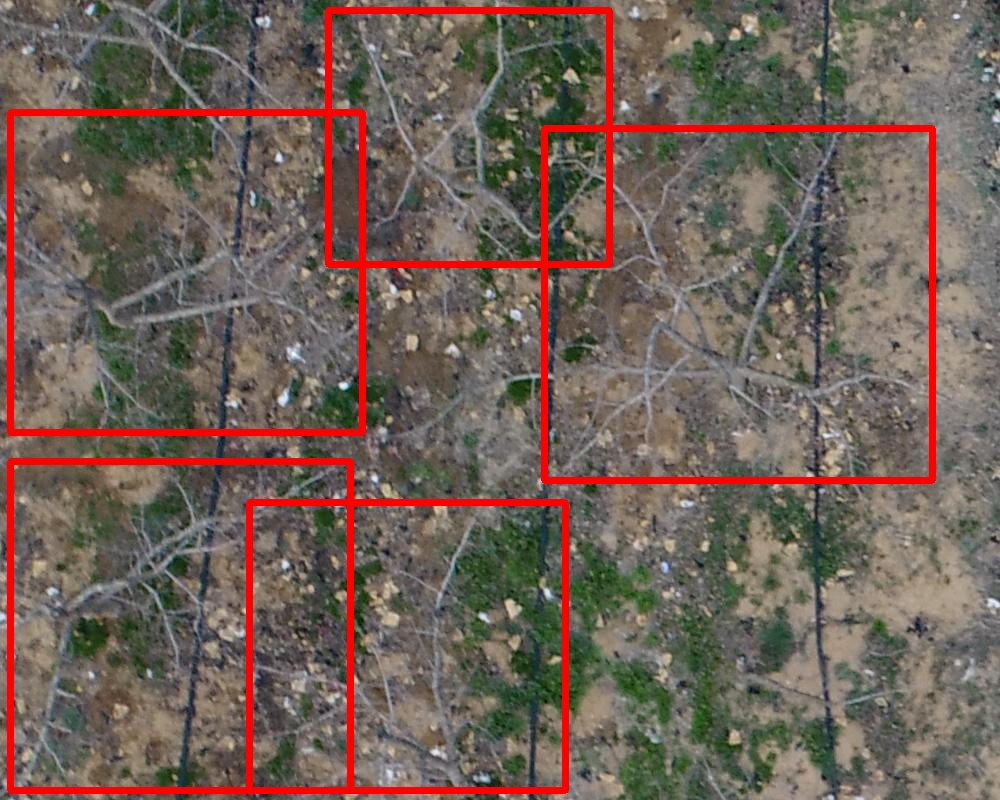apple: (544, 128, 932, 480), (10, 112, 362, 432), (10, 461, 350, 790), (249, 502, 565, 790), (328, 10, 609, 264)
